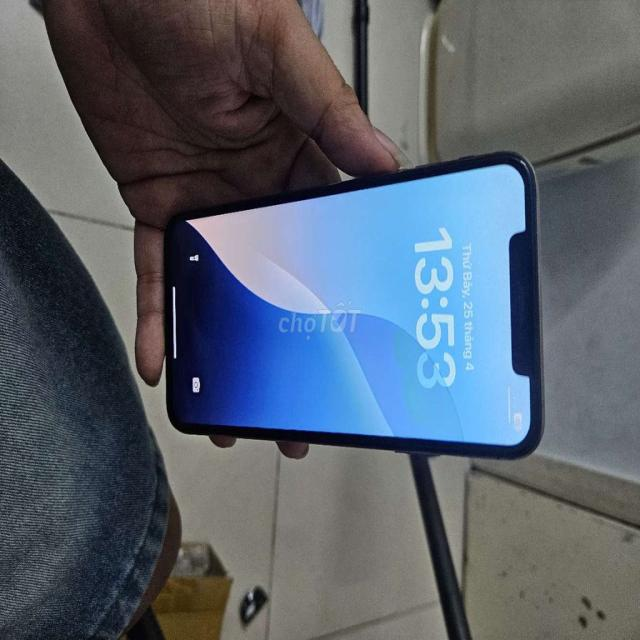gen_x_xs: (139, 145, 559, 480)
